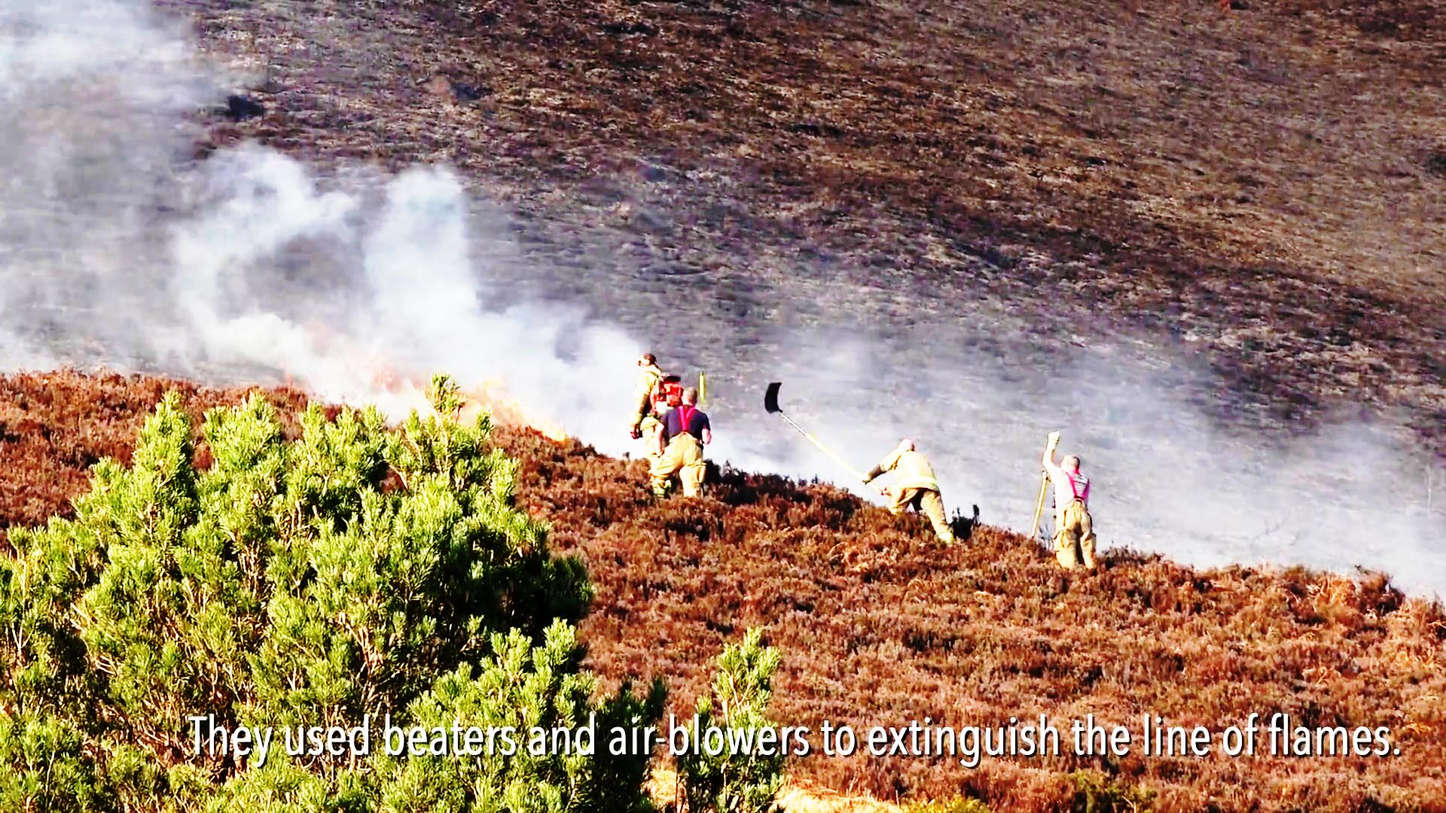fire: (364, 353, 558, 424)
smoke: (388, 196, 496, 344)
